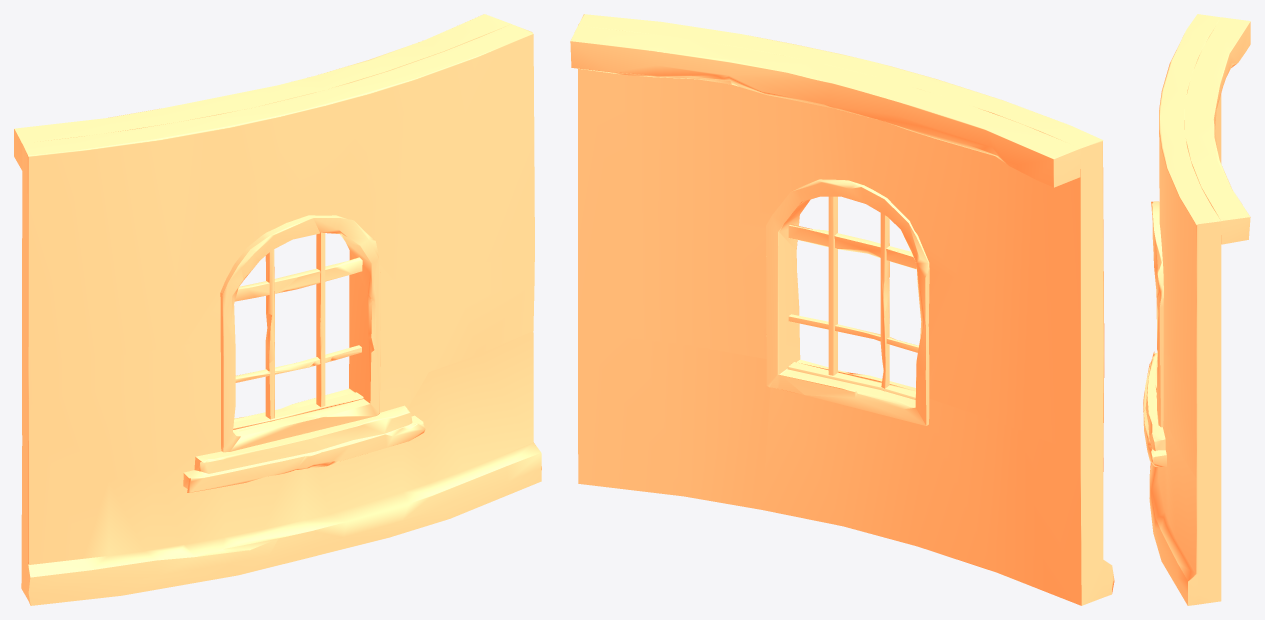
Rendered from SM_Cabin_Wall01.fbx.
3 views of the same model, side by side, from view 1: azimuth 30°, elevation 25°; view 2: azimuth 150°, elevation 25°; view 3: azimuth 270°, elevation 25° (orthographic). The views are drawn at different scales.
Visible parts, largest first — view 1: SM_Cabin_Wall01_LOD0; view 2: SM_Cabin_Wall01_LOD0; view 3: SM_Cabin_Wall01_LOD0.
Part boxes in pixels (x1=…): SM_Cabin_Wall01_LOD0: x1=14, y1=14, x2=541, y2=605; SM_Cabin_Wall01_LOD0: x1=570, y1=14, x2=1114, y2=605; SM_Cabin_Wall01_LOD0: x1=1143, y1=14, x2=1250, y2=605.
Size of the model in its own units: 374 by 79.38 by 310.
